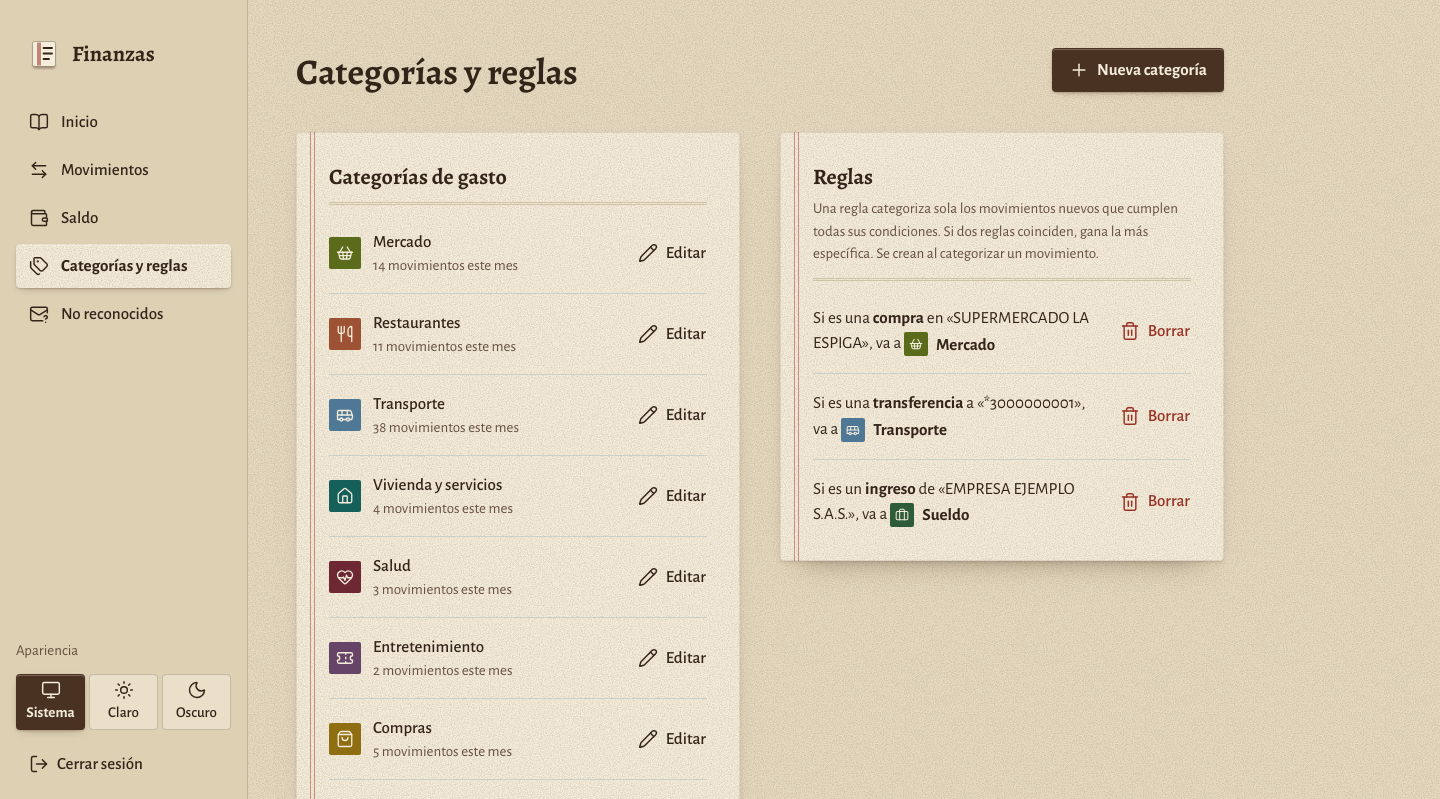
Test case: Categorías y reglas › no deja repetir el par color + ícono ni el nombre
Click the button "Nueva categoría" at (1138, 70), box [1052, 48, 1224, 92]
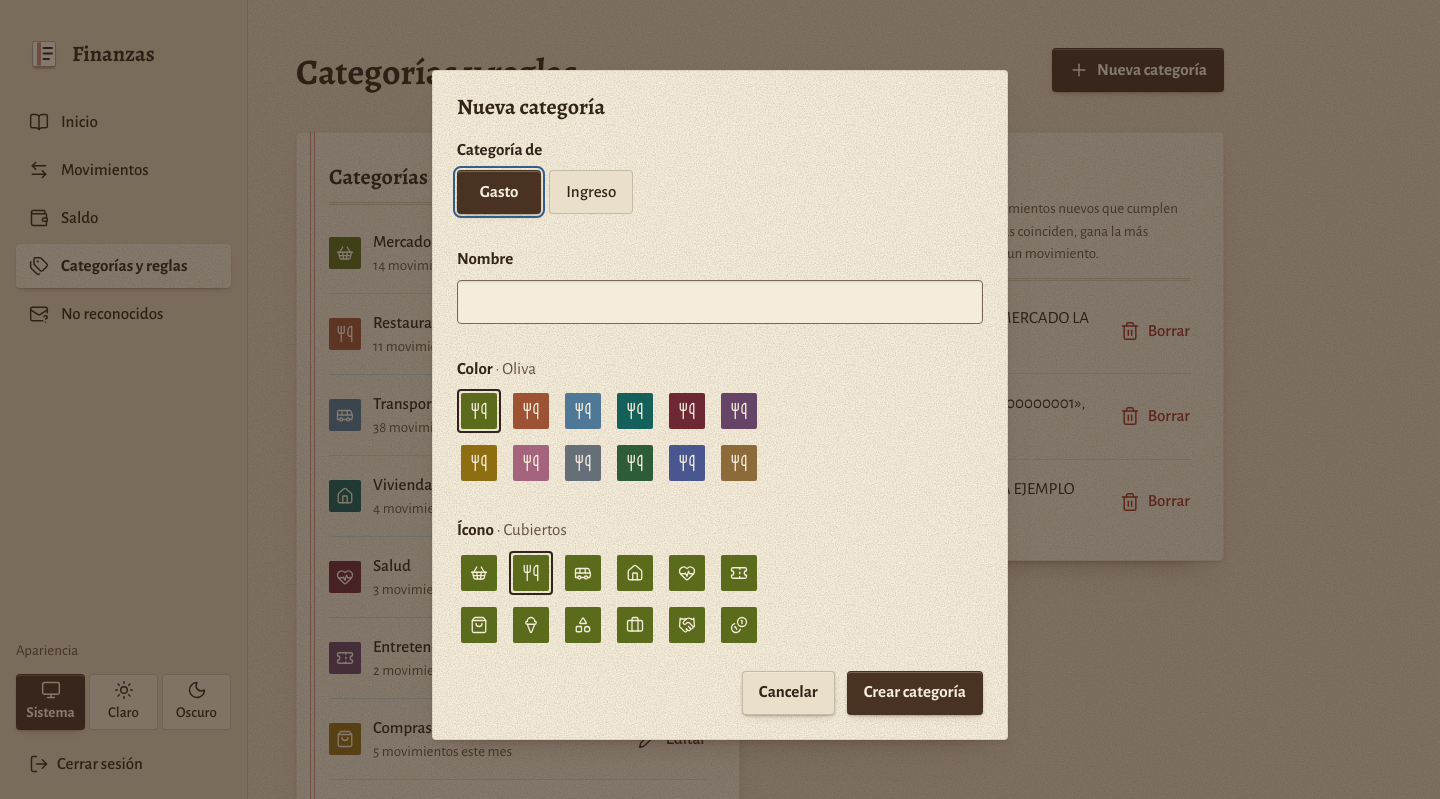
Type "mercado" into the field labelled "Nombre" at (720, 302), box [457, 280, 983, 324]
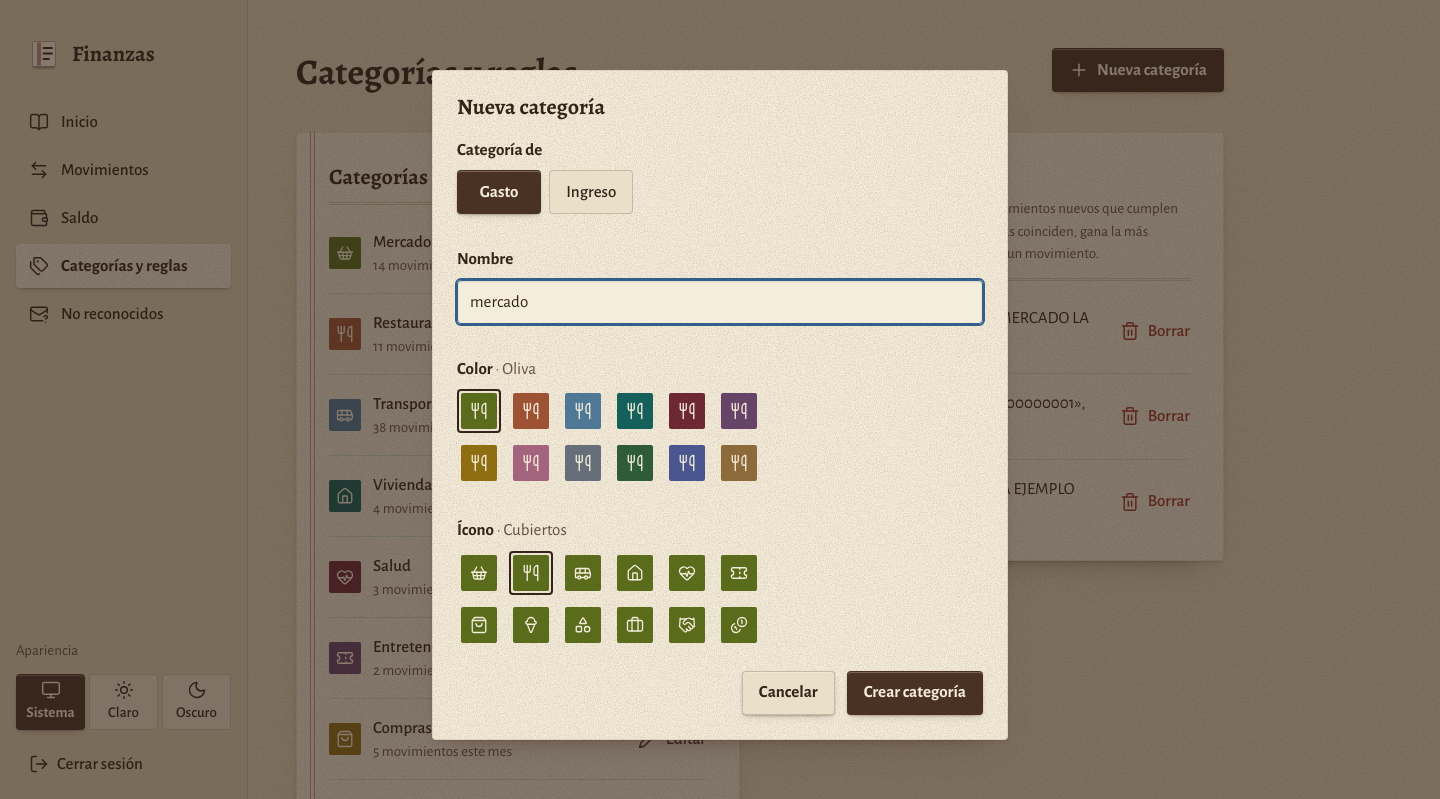
Click the radio button named "Canasta" at (479, 573), box [457, 551, 501, 595]
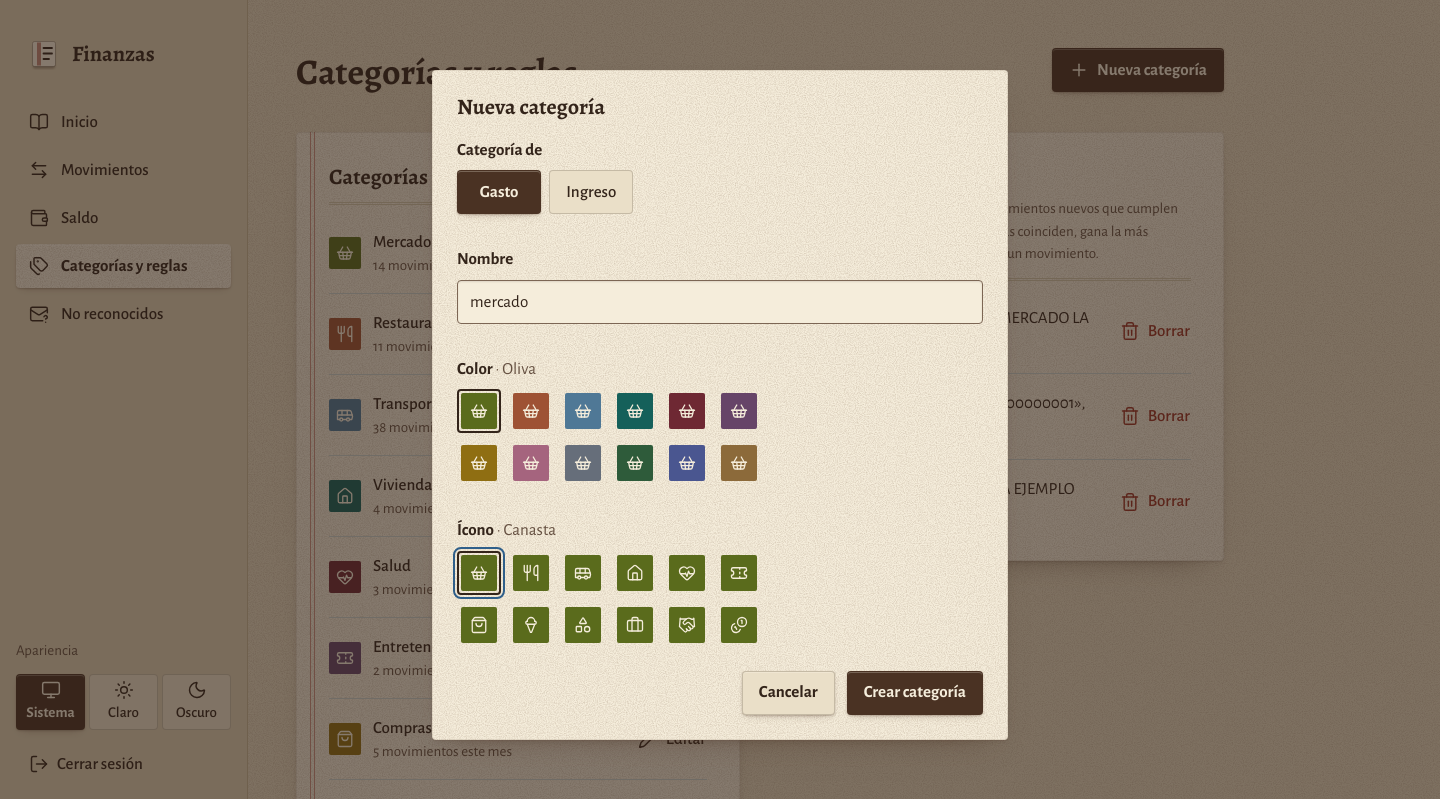
Click the button "Crear categoría" at (915, 693), box [847, 671, 983, 715]
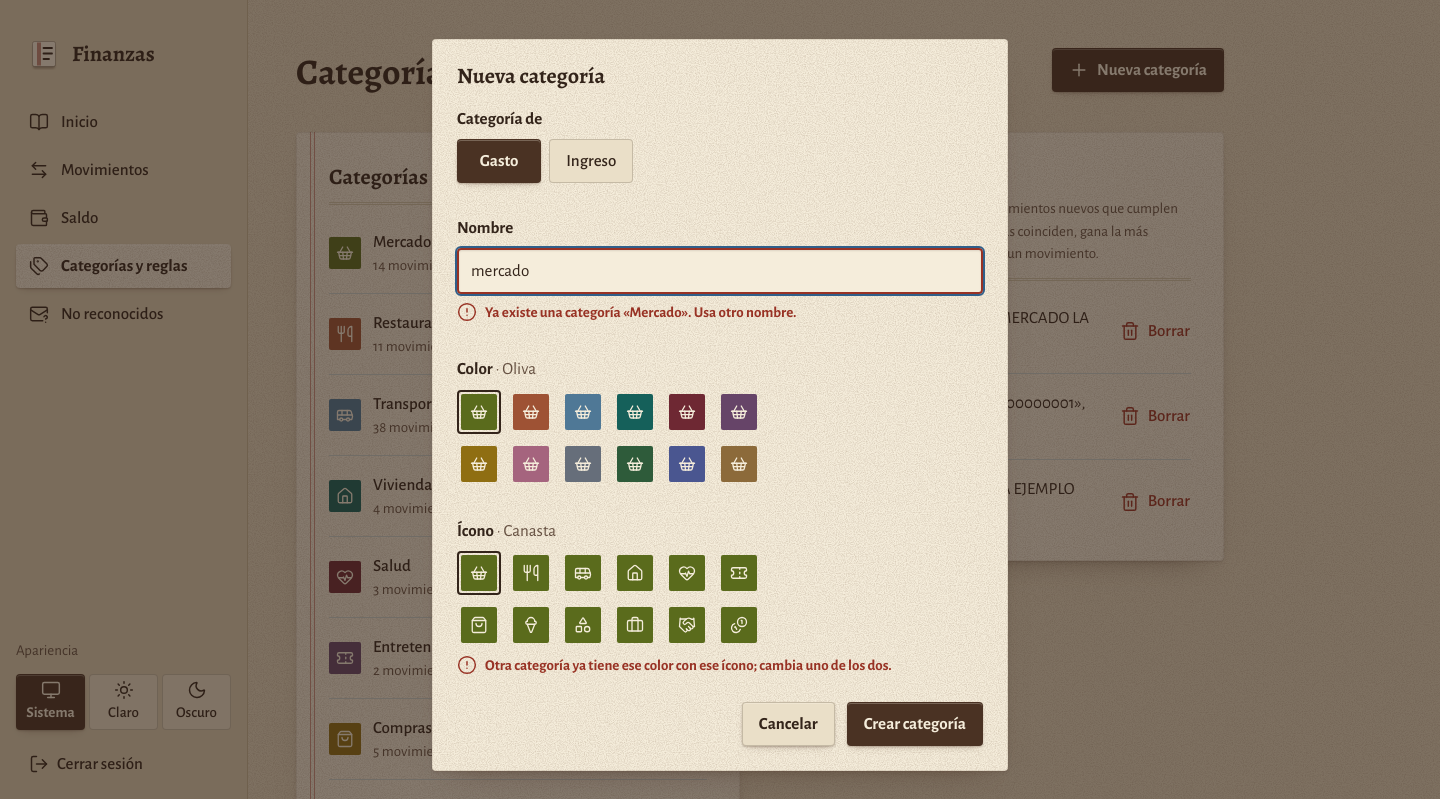
Result: the text "Ya existe una categoría «Mercado». Usa otro nombre." is shown at [485, 302, 796, 324]
Result: the text "Otra categoría ya tiene ese color con ese ícono; cambia uno de los dos." is shown at [485, 655, 892, 678]
Click the button "Cancelar" at (788, 724), box [742, 702, 835, 746]
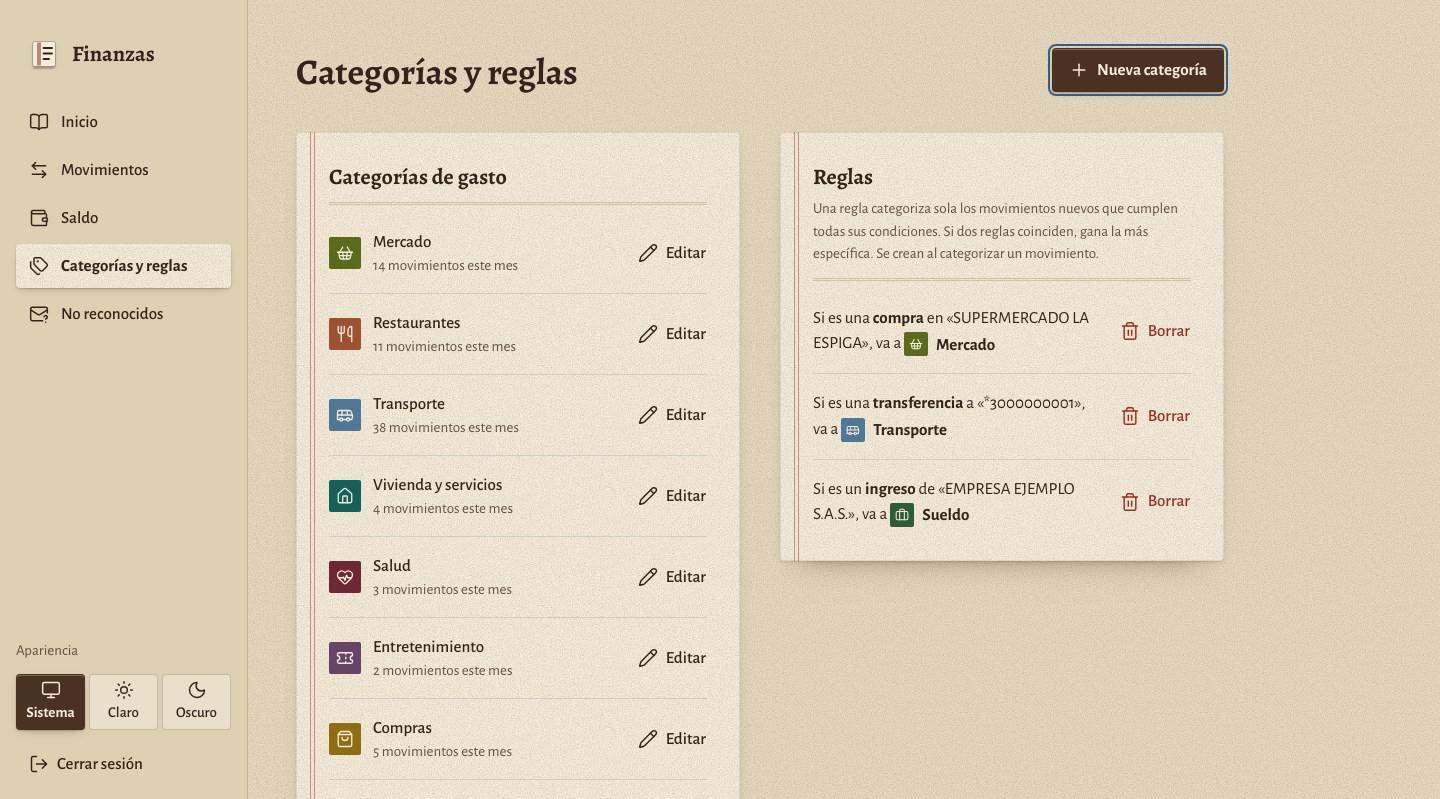
Result: the dialog is gone
